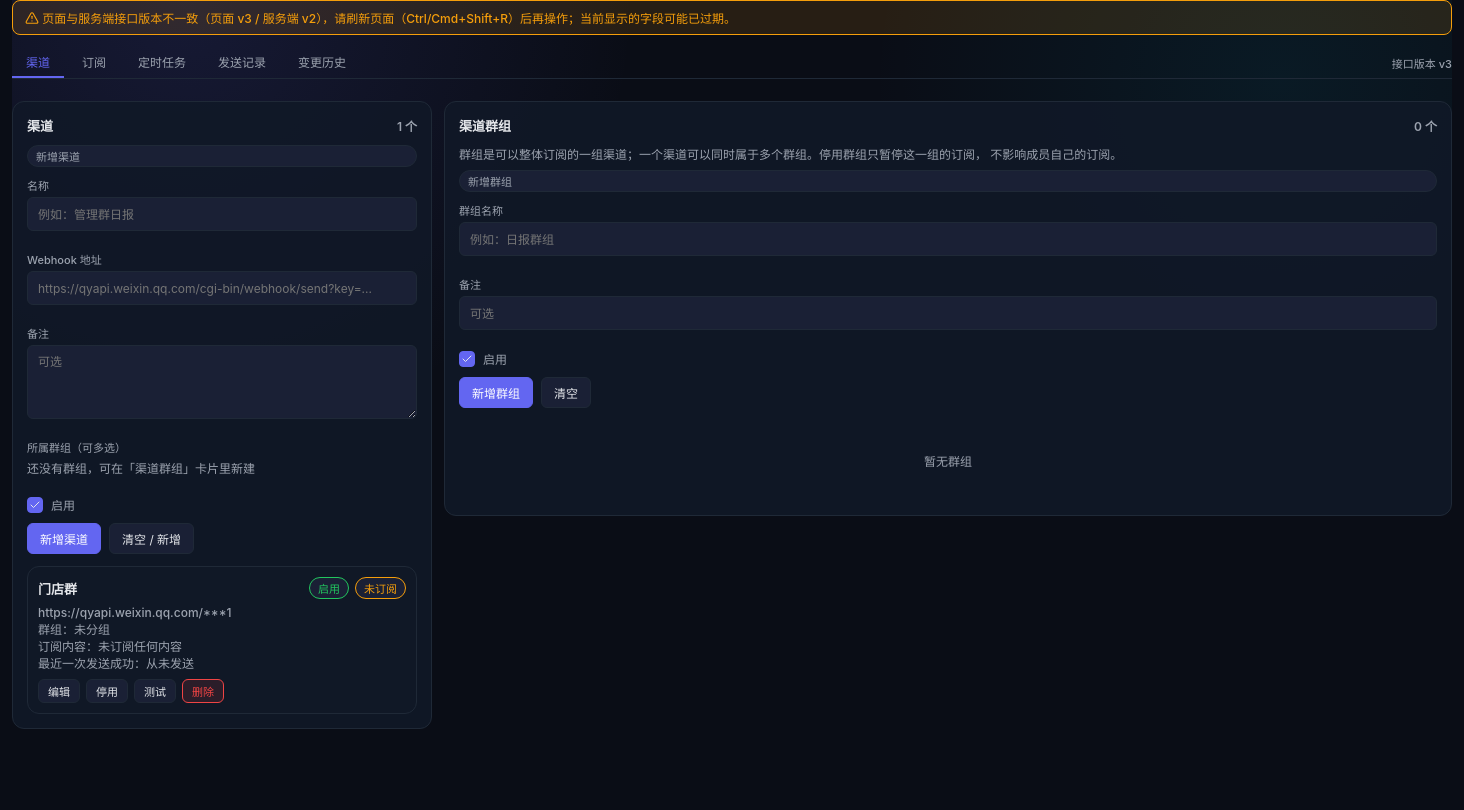
发送记录 tab 的列表 › 失败行整行有明显标识，成功行没有
Step 1. Click the button "发送记录" → (242, 62), box [204,47,280,78]
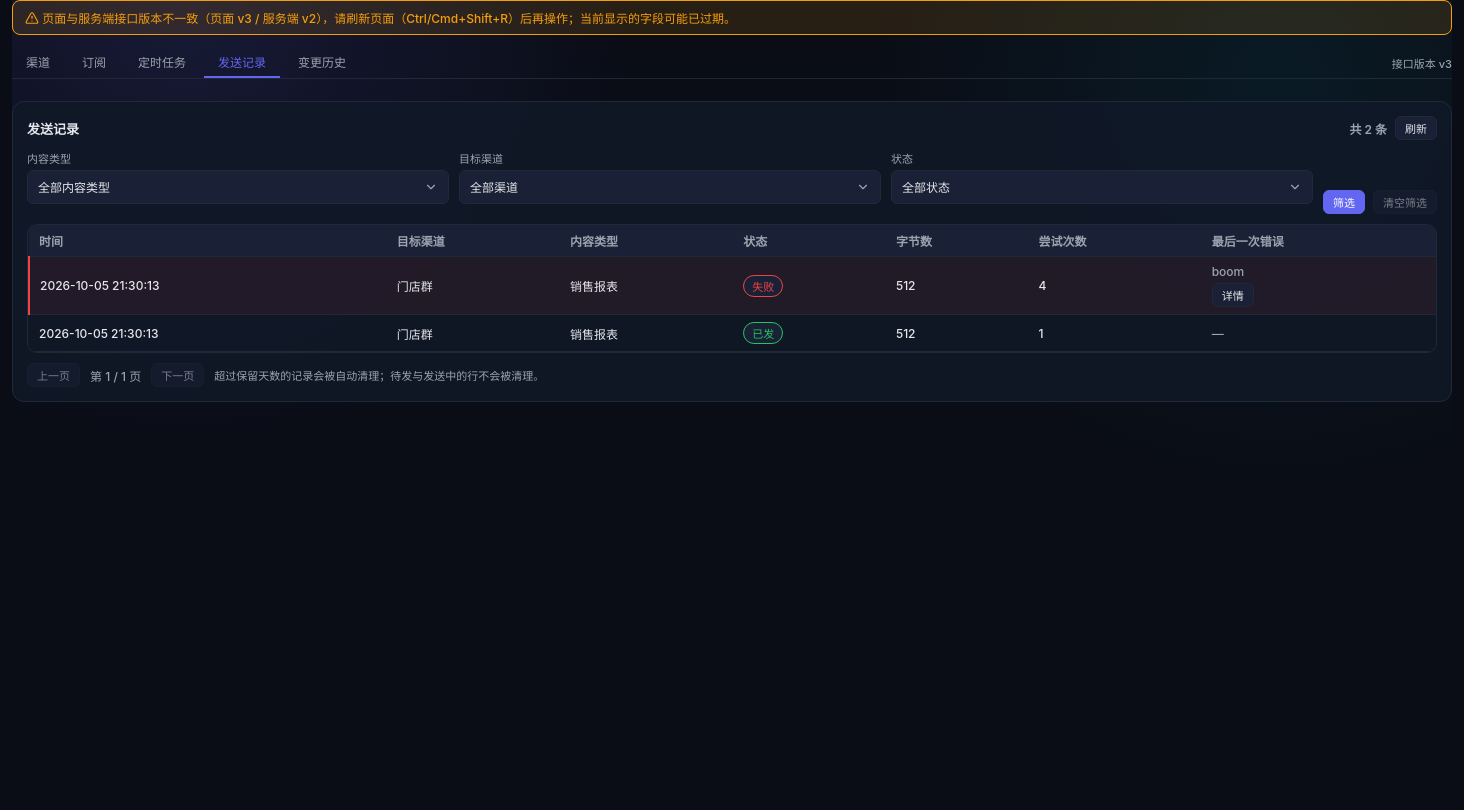
Result: the row "2026-10-05 21:30:13 门店群 销售报表 已发 512 1 —" is shown at [29,314,1436,352]
